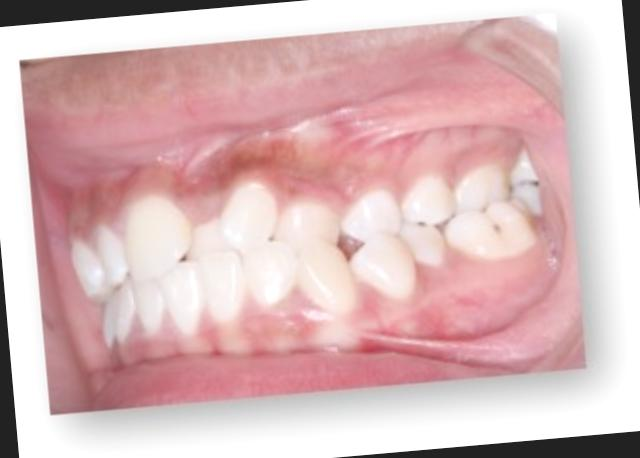canine class II 1/2: (275, 185, 421, 320)
molar class II 1/2: (444, 156, 545, 278)
